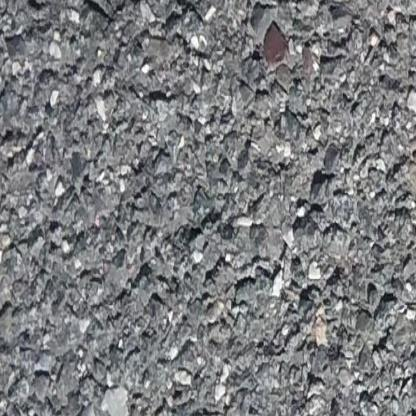Cracks: (149, 0, 206, 27), (97, 0, 124, 16)
